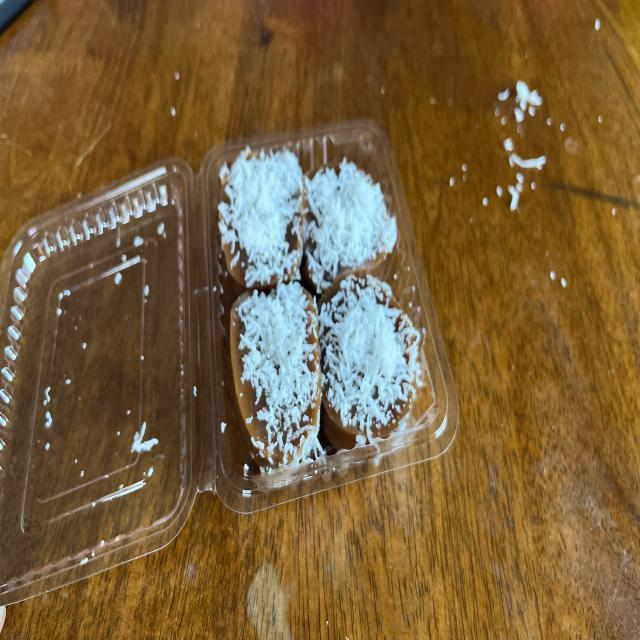Kuih lompang: (319, 273, 422, 449), (230, 282, 321, 467), (301, 158, 398, 293), (218, 147, 304, 289)
